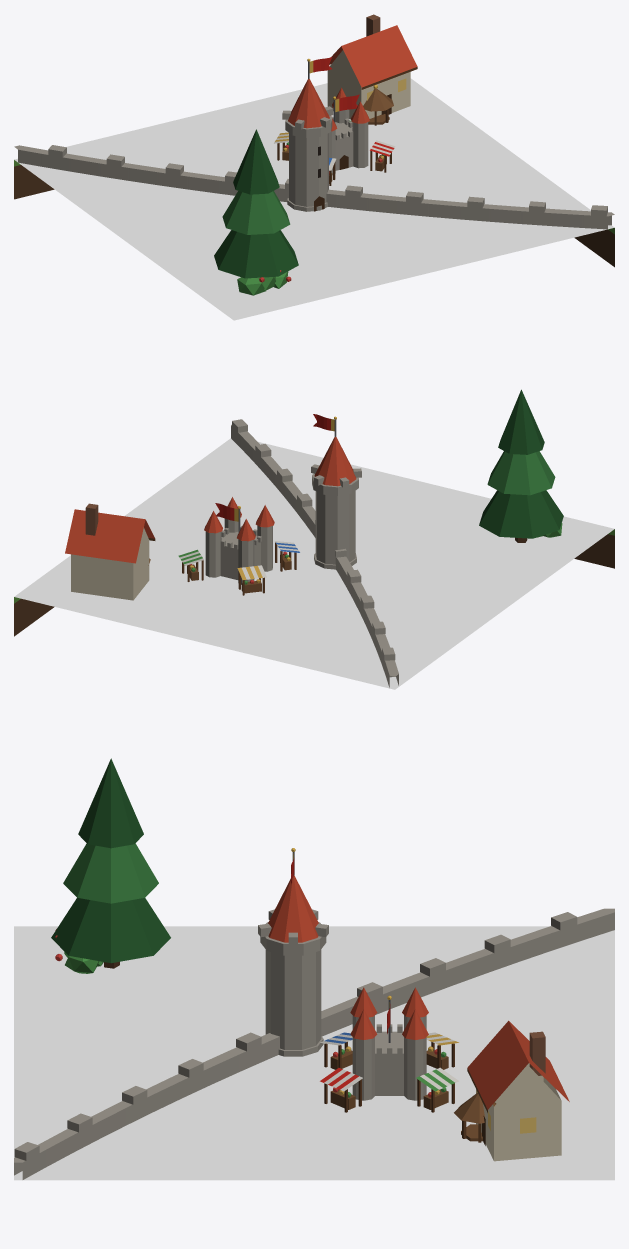
The model's file is xccfr.glb.
3 views of the same model, one above another, from view 1: azimuth 30°, elevation 25°; view 2: azimuth 150°, elevation 25°; view 3: azimuth 270°, elevation 25° (orthographic). The views are drawn at different scales.
Visible parts, largest first — view 1: xccfr; view 2: xccfr; view 3: xccfr.
Boxes of the visible parts, x1,y1,x2,y2 form: xccfr: [14, 14, 614, 320]; xccfr: [14, 389, 614, 689]; xccfr: [14, 758, 614, 1180].
Bounding box in the file's own units: 2 × 0.96 × 2.
